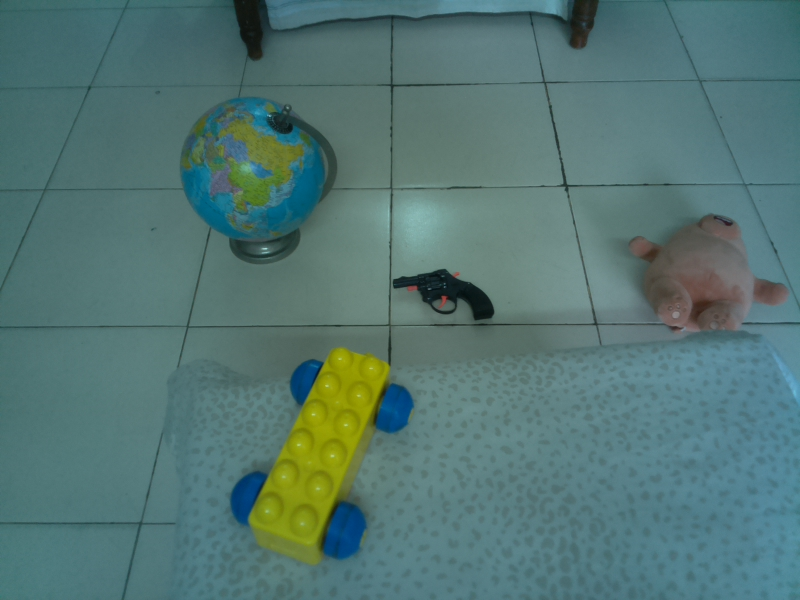Gun: (390, 262, 501, 324)
toy_Car: (227, 343, 416, 570)
